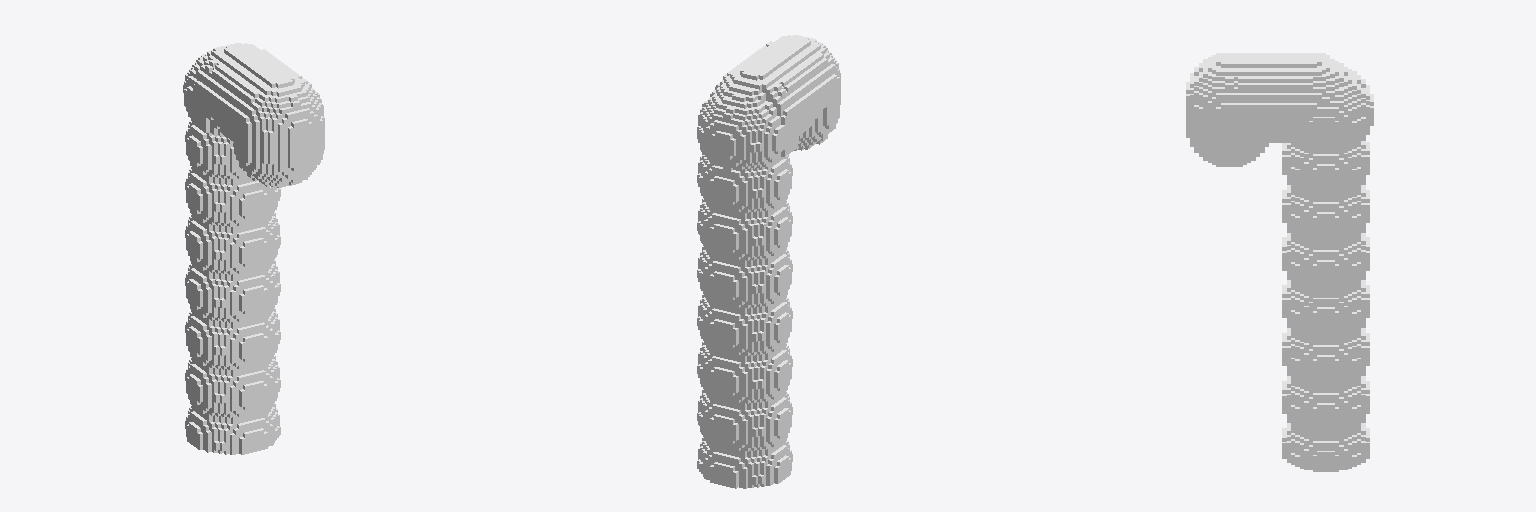
File: candycane.obj
The picture shows the model from 3 angles: view 1: azimuth 30°, elevation 25°; view 2: azimuth 150°, elevation 25°; view 3: azimuth 270°, elevation 25°; orthographic projection.
Parts seen in each view (by area): view 1: candycane; view 2: candycane; view 3: candycane.
Part boxes in pixels (bbox=[...]): candycane: bbox=[183, 43, 324, 454]; candycane: bbox=[697, 35, 840, 488]; candycane: bbox=[1186, 53, 1373, 471].
Bounding box in the file's own units: 21 × 99 × 43.